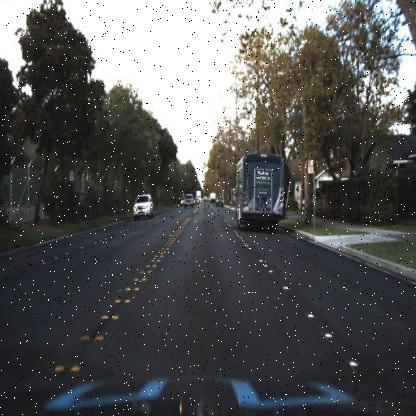car: (132, 187, 156, 221), (214, 192, 228, 212), (182, 191, 194, 208)
truck: (235, 150, 287, 231)
